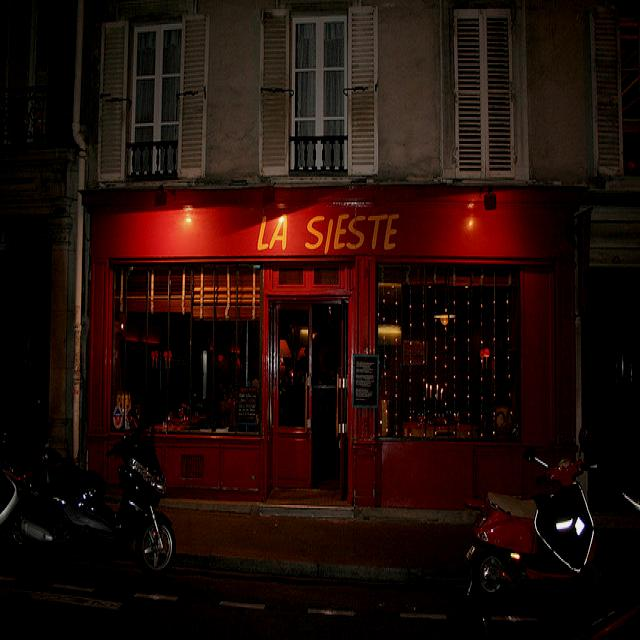Motorbike: (11, 426, 178, 578), (467, 452, 597, 620)
